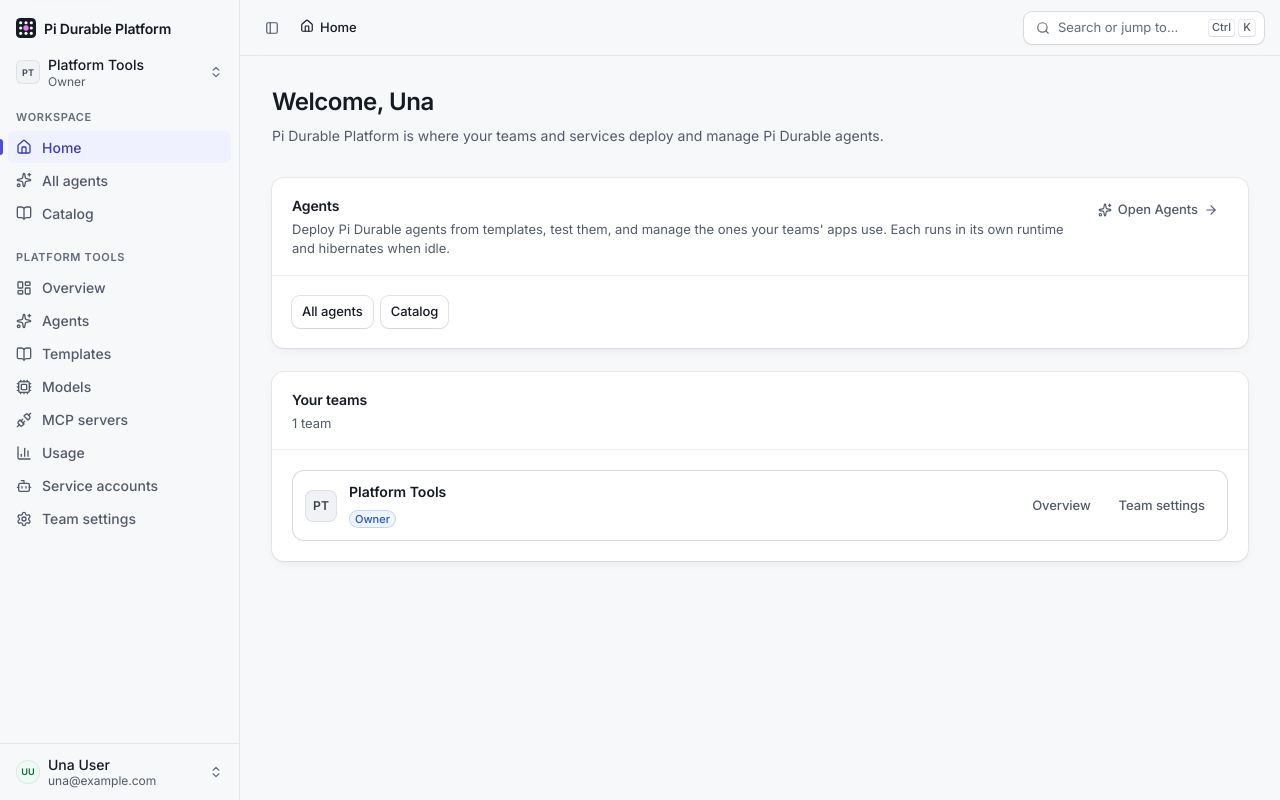
it: command palette › lists admin pages for platform staff only
Check: the heading "Welcome, Una" is shown, box [272,88,434,117]
Type keys "{Control>}k{/Control}"
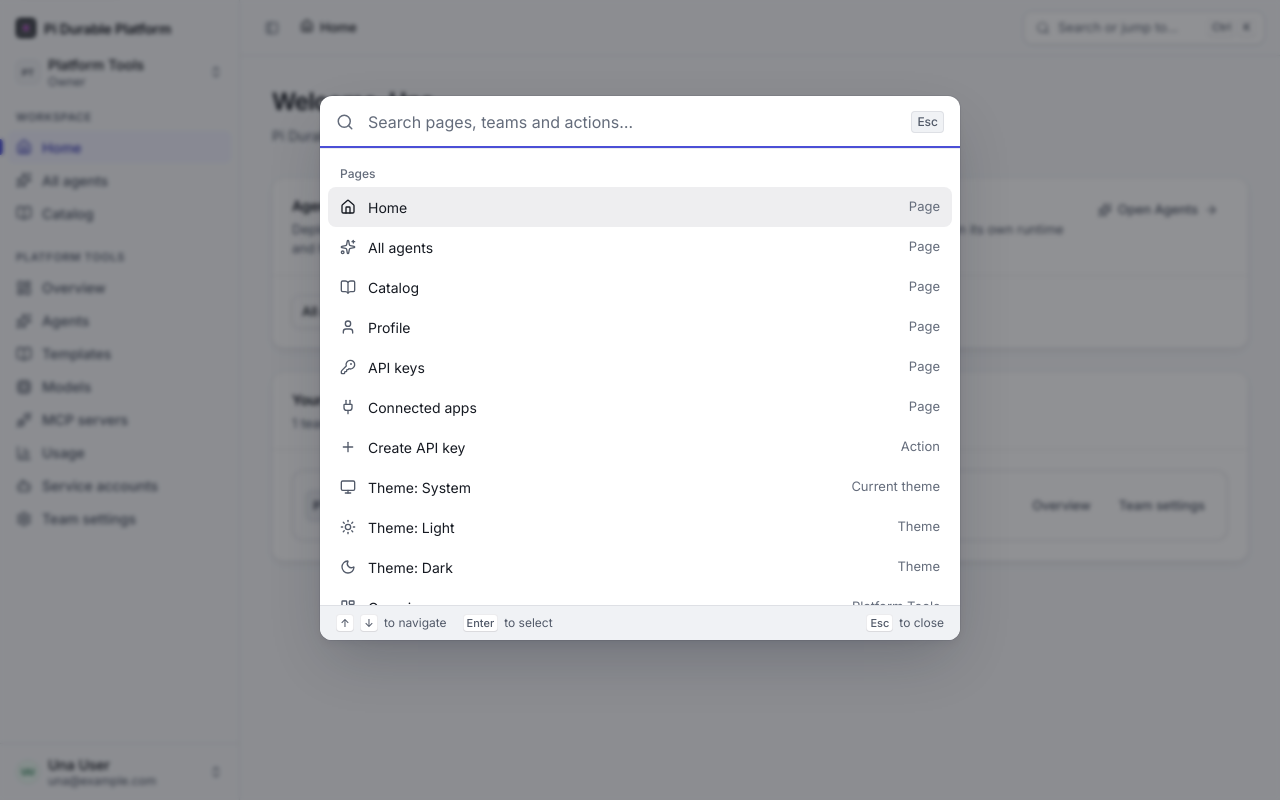
Type "audit" into the dropdown named "Command palette" at {"x": 633, "y": 122}, box [366,96,899,148]
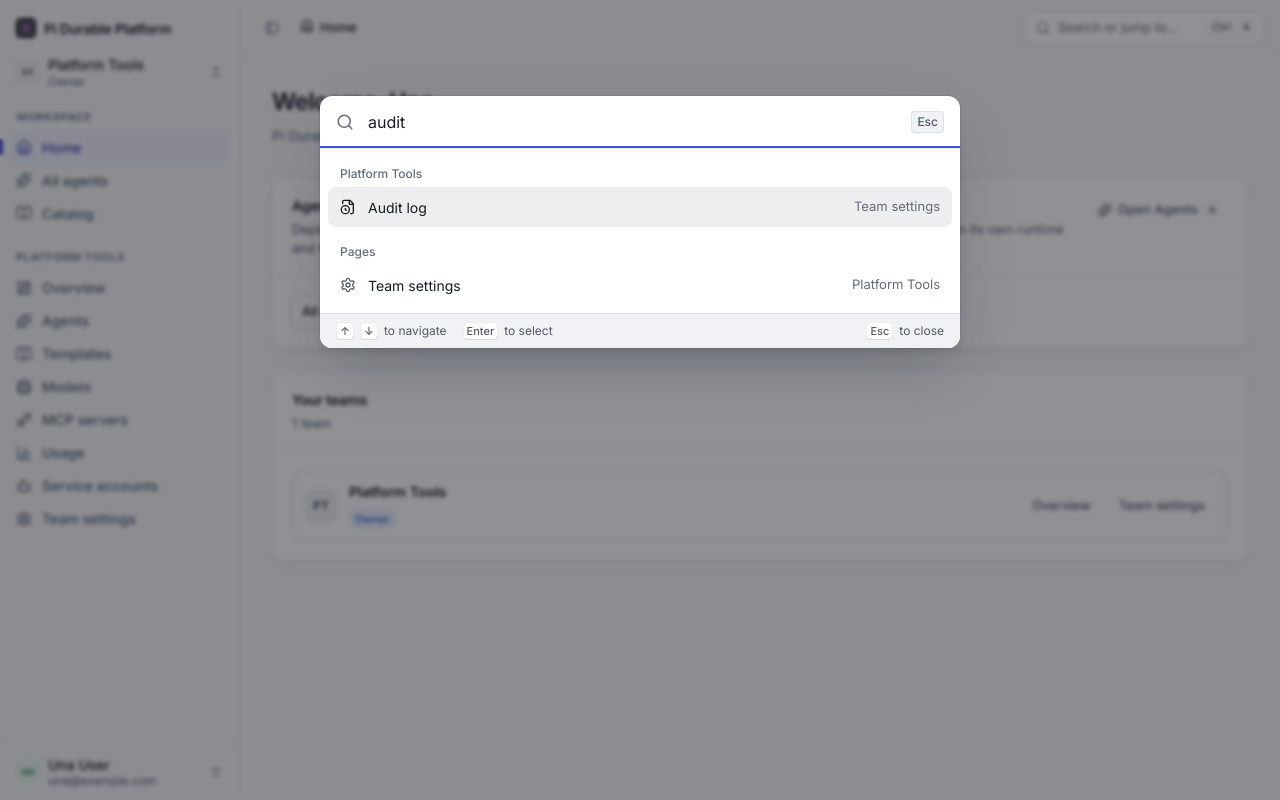
Check: the option "Audit log Team settings" is shown, box [328,187,952,227]
